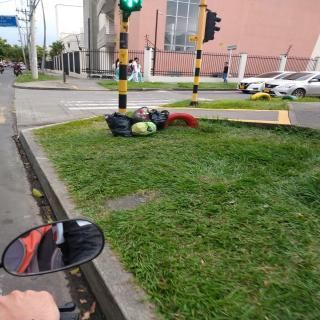Garbage: (102, 110, 139, 138), (131, 121, 159, 137), (149, 109, 168, 130), (131, 107, 150, 122)
